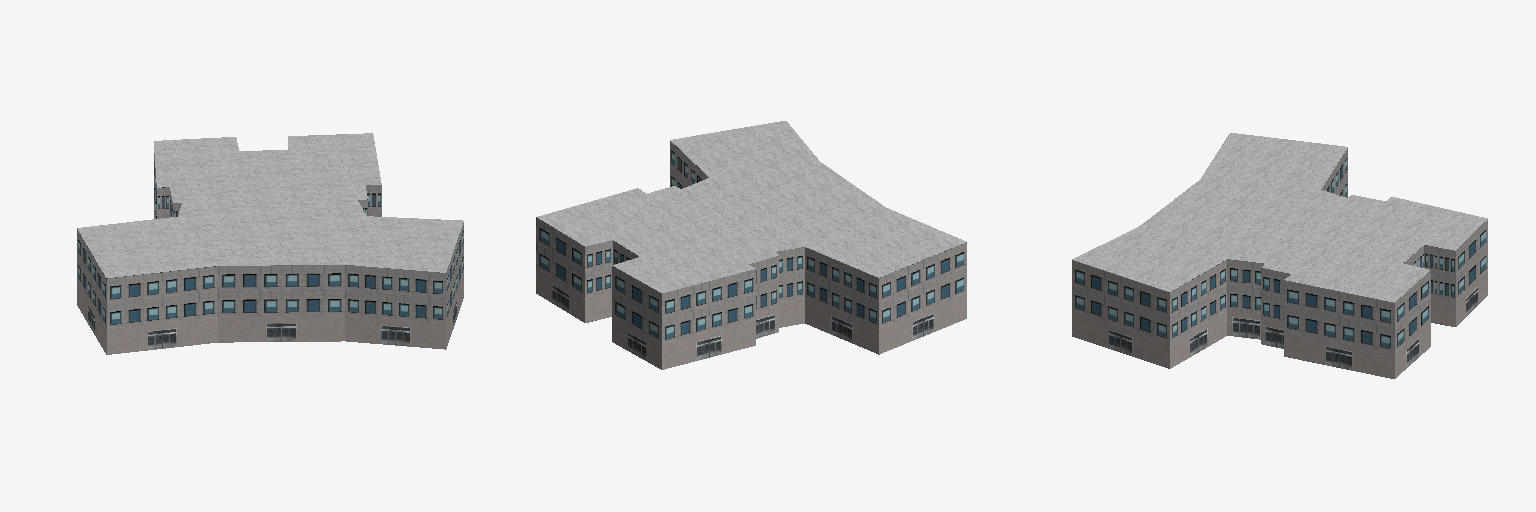
3 renders of one model, left to right at view 1: azimuth 30°, elevation 25°; view 2: azimuth 150°, elevation 25°; view 3: azimuth 270°, elevation 25°, orthographic.
Parts seen in each view (by area): view 1: BuildingMaster_[number redacted]_1, BuildingMaster_[number redacted]_0; view 2: BuildingMaster_[number redacted]_1, BuildingMaster_[number redacted]_0; view 3: BuildingMaster_[number redacted]_1, BuildingMaster_[number redacted]_0.
Part boxes in pixels (x1,y1,x2,y2): BuildingMaster_[number redacted]_1: (77, 133, 463, 277); BuildingMaster_[number redacted]_0: (77, 154, 463, 354); BuildingMaster_[number redacted]_1: (537, 121, 965, 292); BuildingMaster_[number redacted]_0: (536, 141, 966, 369); BuildingMaster_[number redacted]_1: (1072, 133, 1487, 302); BuildingMaster_[number redacted]_0: (1072, 148, 1487, 378).
Bounding box in the file's own units: 50 × 10.5 × 51.76.
2 materials, 2 textured.